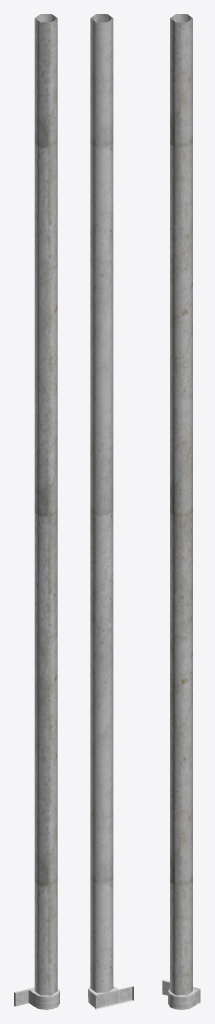
File: SM_Wires_Pipes_01ll.glb
3 renders of one model, left to right at view 1: azimuth 30°, elevation 25°; view 2: azimuth 210°, elevation 25°; view 3: azimuth 330°, elevation 25°, orthographic.
Visible parts, largest first — view 1: SM_Wires_Pipes_01ll; view 2: SM_Wires_Pipes_01ll; view 3: SM_Wires_Pipes_01ll.
Part boxes in pixels (x1=…): SM_Wires_Pipes_01ll: x1=14, y1=14, x2=59, y2=1009; SM_Wires_Pipes_01ll: x1=88, y1=14, x2=133, y2=1009; SM_Wires_Pipes_01ll: x1=162, y1=14, x2=200, y2=1009.
Bounding box in the file's own units: 0.0605 × 1.5 × 0.0367.
Materials: 1 (1 with a texture image).
